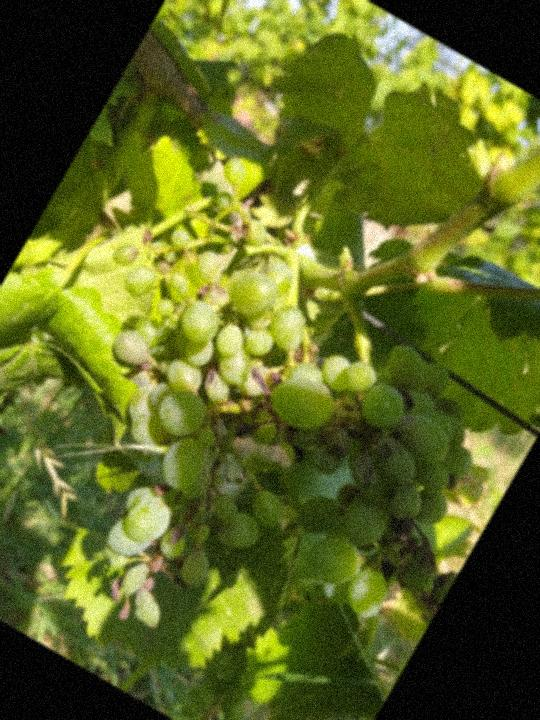grape: (0, 127, 540, 720)
